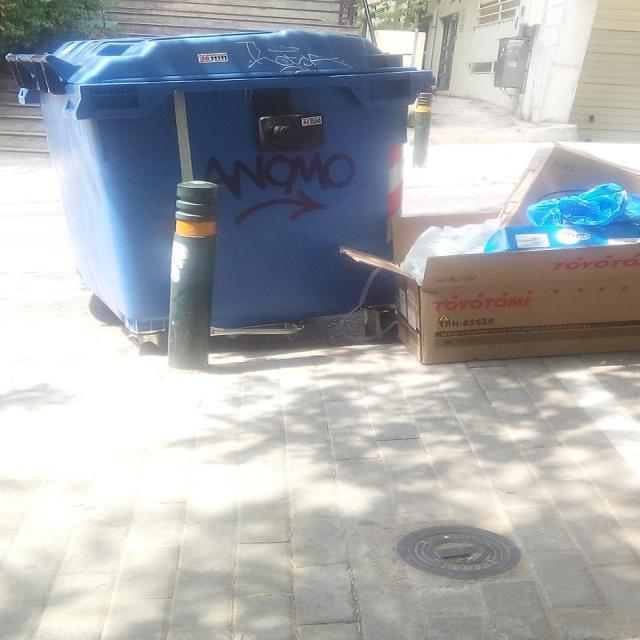nonspitting: (206, 152, 358, 224)
